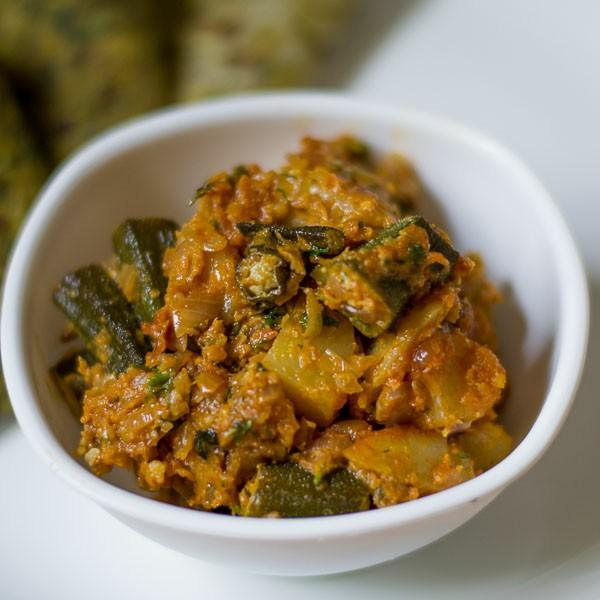BhindiMasala: (50, 134, 512, 521)
